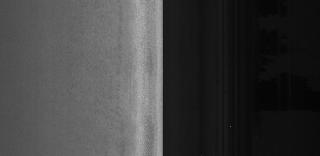silk spot: (89, 89, 133, 131)
